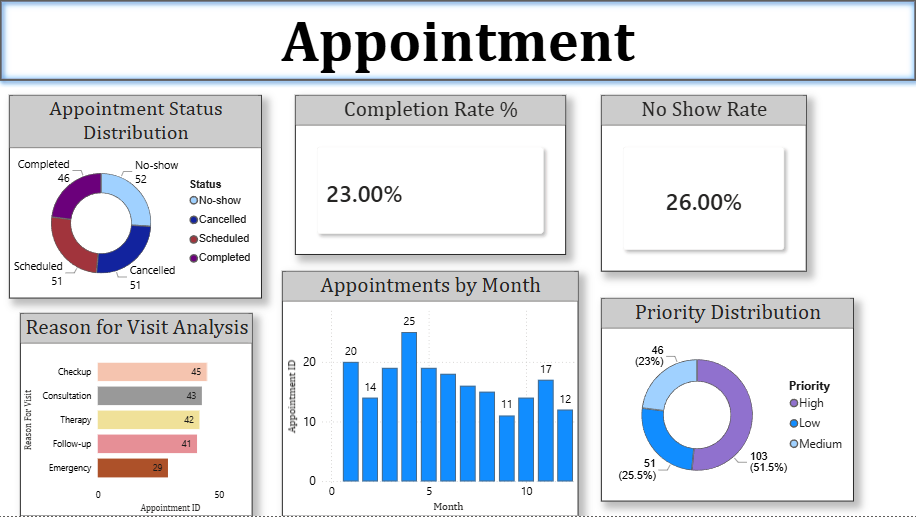

Layout of this report page (visuals, bound fields, positions):
{"tool":"powerbi","page":{"name":"Appointment Analytics ","canvas":[1280,720],"ordinal":2},"visuals":[{"type":"donutChart","title":"Appointment Status Distribution","fields":{"Category":["master_healthcare_dataset.status"],"Y":["CountNonNull(master_healthcare_dataset.appointment_id)"]},"box":[22.5,140,347.5,280],"z":0},{"type":"donutChart","title":"Priority Distribution","fields":{"Category":["master_healthcare_dataset.priority"],"Y":["CountNonNull(master_healthcare_dataset.appointment_id)"]},"box":[837.5,420,347.5,280],"z":1000},{"type":"clusteredBarChart","title":"Reason for Visit Analysis","fields":{"Category":["master_healthcare_dataset.reason_for_visit"],"Y":["CountNonNull(master_healthcare_dataset.appointment_id)"]},"box":[37.5,440,320,280],"z":2000},{"type":"clusteredColumnChart","title":"Appointments by Month","fields":{"Category":["master_healthcare_dataset.month_x","master_healthcare_dataset.day"],"Y":["CountNonNull(master_healthcare_dataset.appointment_id)"]},"box":[397.5,382.5,407.5,337.5],"z":3000},{"type":"cardVisual","title":"No Show Rate","fields":{"Data":["master_healthcare_dataset.No Show Rate %"]},"box":[837.5,140,282.5,242.5],"z":4000},{"type":"cardVisual","title":"Completion Rate %","fields":{"Data":["master_healthcare_dataset.Completion Rate %"]},"box":[415,140,372.5,220],"z":5000},{"type":"actionButton","box":[0,0,1280,130],"z":6000}]}

Visuals, with their boxes in screenshot pixels (x1, y1, x2, y2), scaled from the page's 1280x720 canvas onto the 916x517 screenshot:
"Appointment Status Distribution" donutChart: <box>16,101,265,302</box>
"Priority Distribution" donutChart: <box>599,302,848,503</box>
"Reason for Visit Analysis" clusteredBarChart: <box>27,316,256,516</box>
"Appointments by Month" clusteredColumnChart: <box>284,275,576,516</box>
"No Show Rate" cardVisual: <box>599,101,802,275</box>
"Completion Rate %" cardVisual: <box>297,101,564,258</box>
actionButton: <box>0,0,915,93</box>
